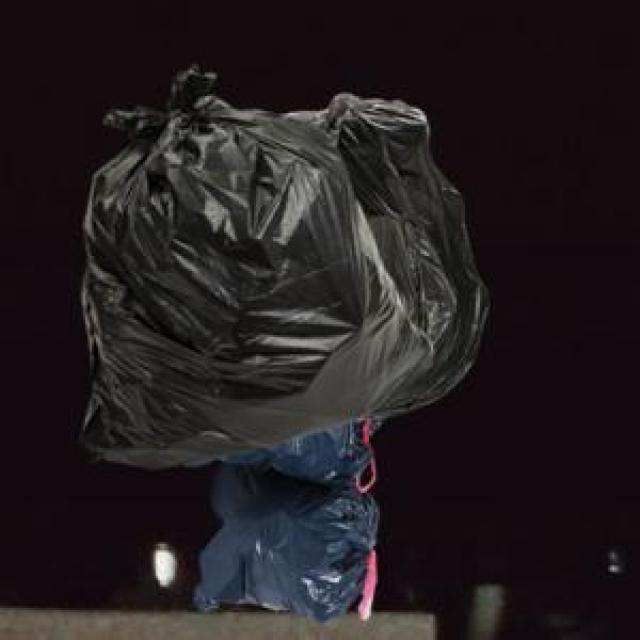Vinyl: (82, 69, 488, 621)
